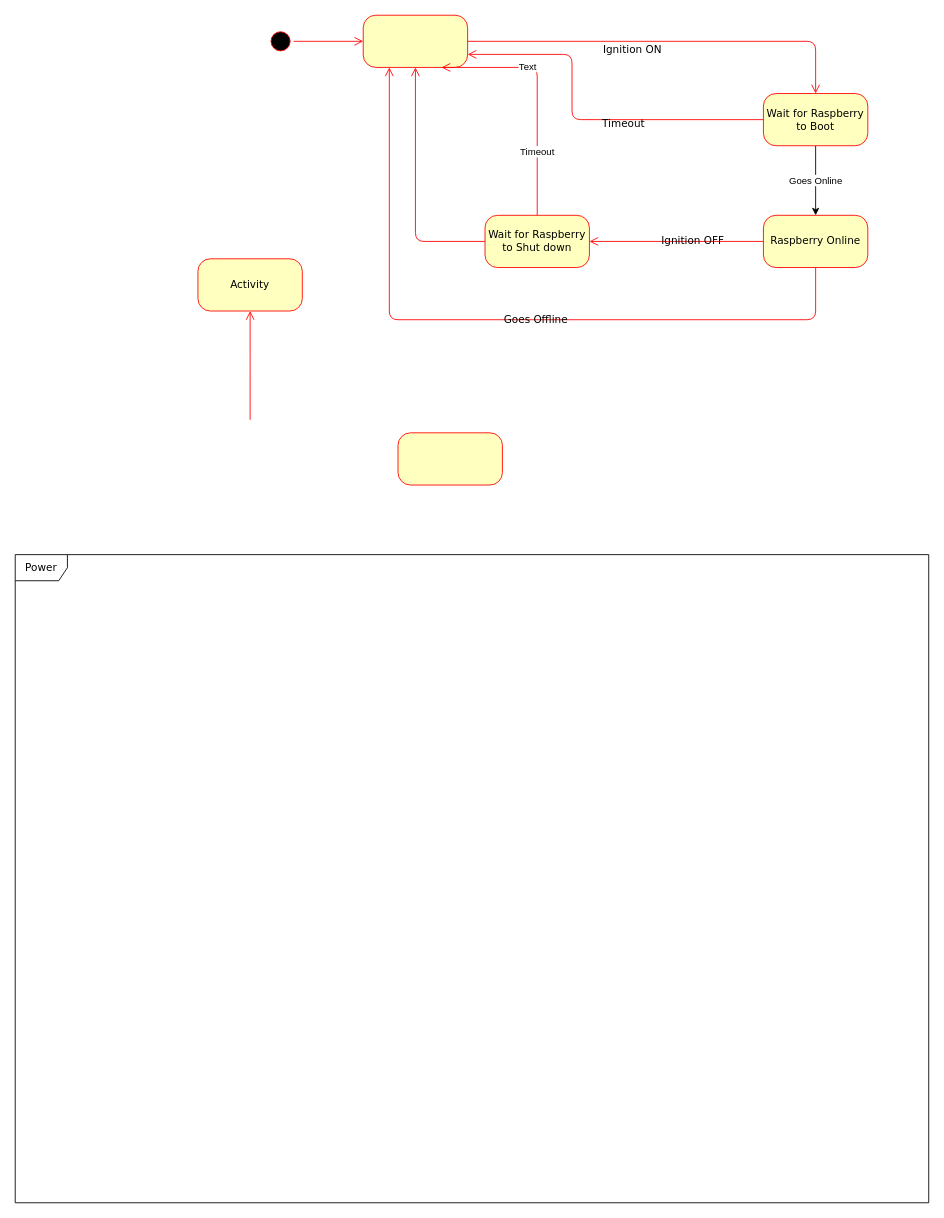
The diagram is 944 pixels wide and 1218 high, and some of its shapes have lost their labels. The centre of each missing label's shape, as x and y in pixels:
"Cut Power to Raspberry Pi" goes at (449,458).
"Idle" goes at (415,40).
